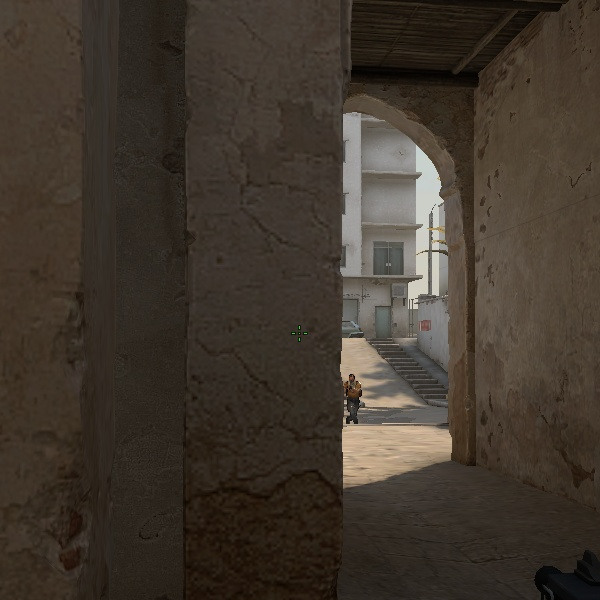t_body: (341, 373, 364, 426)
t_head: (348, 373, 356, 383)
